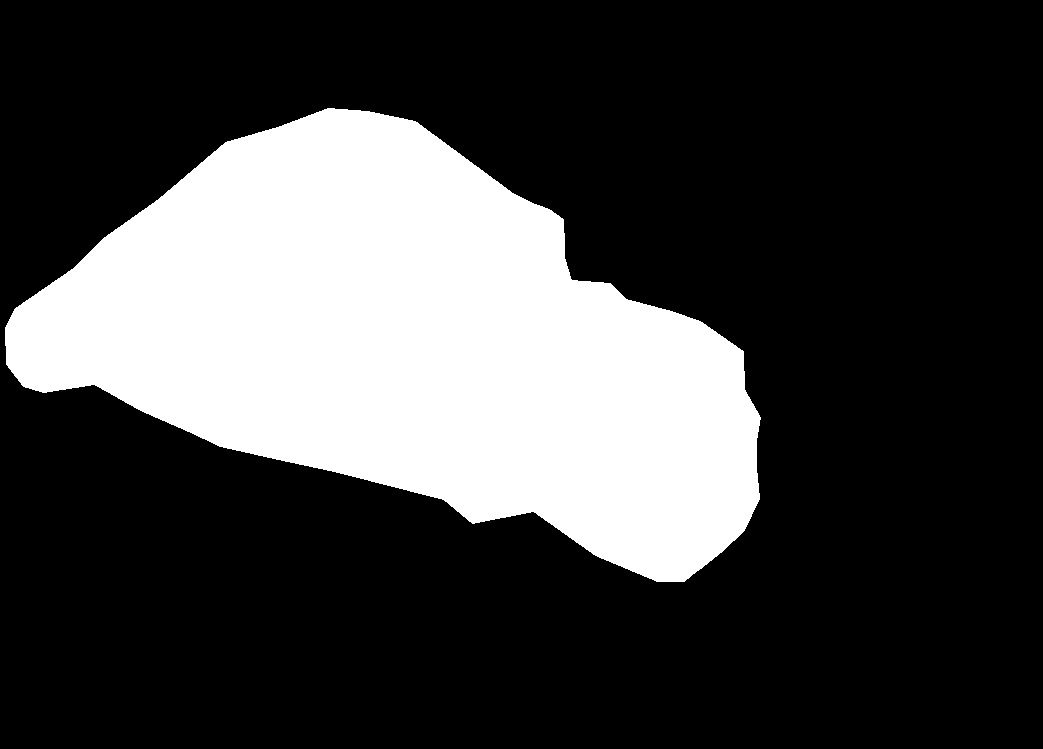Fire: (1, 101, 769, 601)
